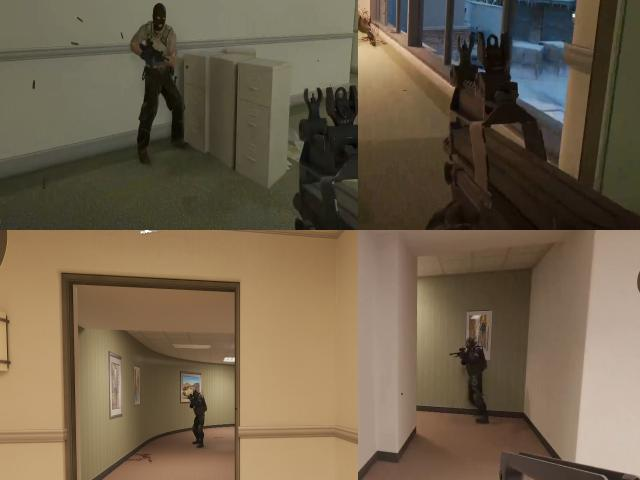CT: (191, 388, 205, 444)
CT-Head: (462, 334, 486, 392), (464, 335, 478, 353), (191, 390, 200, 398)
Dead: (358, 0, 375, 39)
T: (135, 0, 180, 92)
T-Head: (149, 0, 171, 33)
